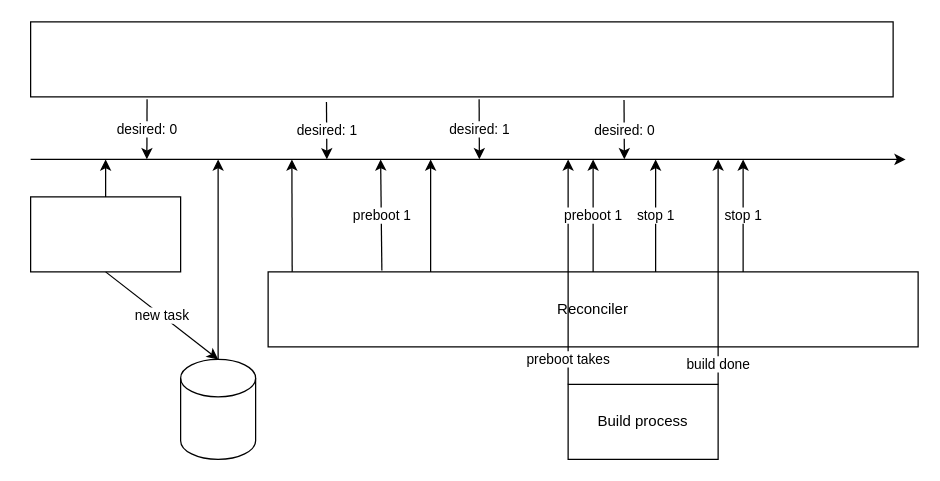
The diagram is 940 pixels wide and 481 high, and some of its shapes have lost their labels. The shapes that lost their labels are listed below. From the top down, each one's box as (x1, y1, x2, y2) in pixels, then its label:
(29, 21, 893, 97): Autoscaler
(29, 196, 181, 272): 1. Request new build
